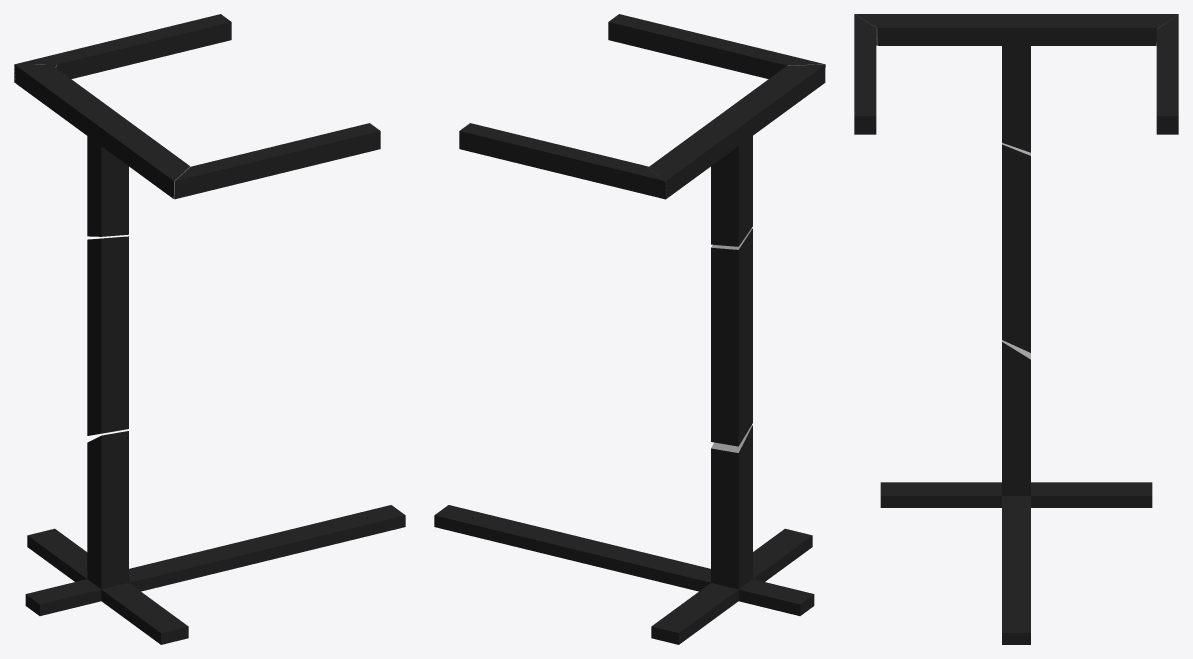
File: May_tap_tay_khung_DEST.fbx
The picture shows the model from 3 angles, left to right: view 1: azimuth 30°, elevation 25°; view 2: azimuth 150°, elevation 25°; view 3: azimuth 270°, elevation 25°; orthographic projection.
Visible parts, largest first — view 1: Mesh_may_tap_tay.017, Mesh_may_tap_tay.001, Mesh_may_tap_tay.004, Mesh_may_tap_tay.003, Mesh_may_tap_tay.002; view 2: Mesh_may_tap_tay.017, Mesh_may_tap_tay.001, Mesh_may_tap_tay.004, Mesh_may_tap_tay.002, Mesh_may_tap_tay.003; view 3: Mesh_may_tap_tay.017, Mesh_may_tap_tay.001, Mesh_may_tap_tay.004, Mesh_may_tap_tay.003, Mesh_may_tap_tay.002.
Part boxes in pixels (box(x1,y1,x2,y2)): Mesh_may_tap_tay.017: box(25, 431, 405, 644); Mesh_may_tap_tay.001: box(14, 64, 190, 236); Mesh_may_tap_tay.004: box(87, 236, 128, 435); Mesh_may_tap_tay.003: box(174, 123, 380, 199); Mesh_may_tap_tay.002: box(14, 14, 231, 83); Mesh_may_tap_tay.017: box(434, 425, 814, 644); Mesh_may_tap_tay.001: box(646, 64, 825, 246); Mesh_may_tap_tay.004: box(711, 228, 752, 446); Mesh_may_tap_tay.002: box(459, 123, 667, 199); Mesh_may_tap_tay.003: box(608, 14, 824, 78); Mesh_may_tap_tay.017: box(880, 340, 1152, 644); Mesh_may_tap_tay.001: box(854, 14, 1178, 152); Mesh_may_tap_tay.004: box(1002, 143, 1030, 352); Mesh_may_tap_tay.003: box(854, 14, 876, 134); Mesh_may_tap_tay.002: box(1156, 14, 1178, 134).
Bounding box in the file's own units: 13.91 × 17.2 × 10.53.
